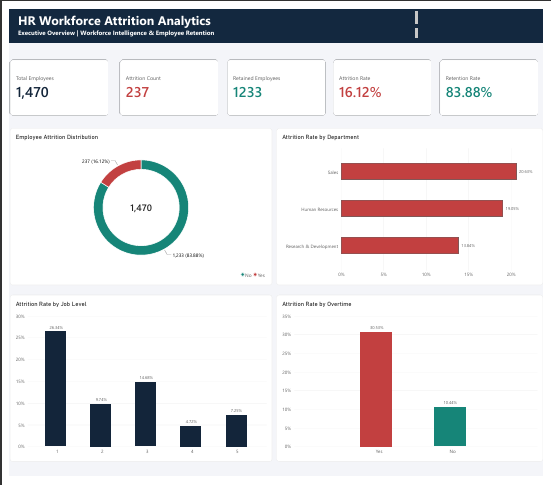

What the dashboard file says about the page in this screenshot:
{"tool":"powerbi","page":{"name":"Executive Overview","canvas":[1600,1400],"ordinal":0},"visuals":[{"type":"shape","box":[0,0,1600.2,100.8],"z":0},{"type":"textbox","box":[24,8,1200,50],"z":1000},{"type":"textbox","box":[24,58,1200,36],"z":2000},{"type":"cardVisual","fields":{"Data":["HR_Employees.Total Employees"]},"box":[0,152,296,168],"z":3000},{"type":"cardVisual","fields":{"Data":["HR_Employees.Attrition Count"]},"box":[330,152,296,168],"z":4000},{"type":"cardVisual","fields":{"Data":["HR_Employees.Retained Employees"]},"box":[652,152,296,168],"z":5000},{"type":"cardVisual","fields":{"Data":["HR_Employees.Attrition Rate"]},"box":[970,152,296,168],"z":6000},{"type":"cardVisual","fields":{"Data":["HR_Employees.Retention Rate"]},"box":[1290,152,296,168],"z":7000},{"type":"donutChart","title":"Employee Attrition Distribution","fields":{"Category":["HR_Employees.Attrition"],"Y":["HR_Employees.Total Employees"]},"box":[0,358.2,786.6,469.8],"z":8000},{"type":"clusteredBarChart","title":"Attrition Rate by Department","fields":{"Category":["HR_Employees.Department"],"Y":["HR_Employees.Attrition Rate"]},"box":[800,358,800,470],"z":9000},{"type":"clusteredColumnChart","title":"Attrition Rate by Job Level","fields":{"Category":["HR_Employees.JobLevel"],"Y":["HR_Employees.Attrition Rate"]},"box":[0,856.7,786.7,500],"z":10000},{"type":"clusteredColumnChart","title":"Attrition Rate by Overtime","fields":{"Category":["HR_Employees.OverTime"],"Y":["HR_Employees.Attrition Rate"]},"box":[800,857,800,500],"z":11000}]}

Visuals, with their boxes in screenshot pixels (x1, y1, x2, y2), scaled from the page's 1600x1400 canvas onto the 551x485 screenshot:
shape: box(0, 0, 550, 35)
textbox: box(8, 3, 422, 20)
textbox: box(8, 20, 422, 33)
cardVisual - HR_Employees.Total Employees: box(0, 53, 102, 111)
cardVisual - HR_Employees.Attrition Count: box(114, 53, 216, 111)
cardVisual - HR_Employees.Retained Employees: box(225, 53, 326, 111)
cardVisual - HR_Employees.Attrition Rate: box(334, 53, 436, 111)
cardVisual - HR_Employees.Retention Rate: box(444, 53, 546, 111)
"Employee Attrition Distribution" donutChart: box(0, 124, 271, 287)
"Attrition Rate by Department" clusteredBarChart: box(276, 124, 550, 287)
"Attrition Rate by Job Level" clusteredColumnChart: box(0, 297, 271, 470)
"Attrition Rate by Overtime" clusteredColumnChart: box(276, 297, 550, 470)
